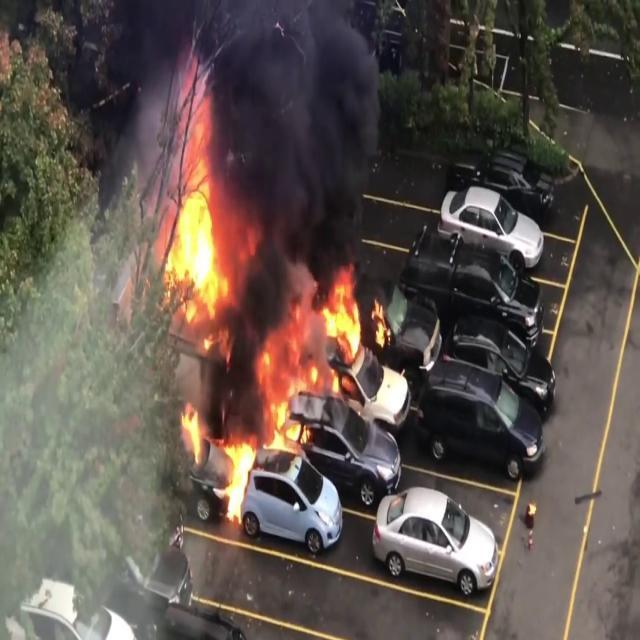Fire: (259, 264, 401, 446), (163, 104, 234, 332), (217, 431, 257, 525), (174, 404, 208, 464)
Smoke: (213, 0, 394, 291)
